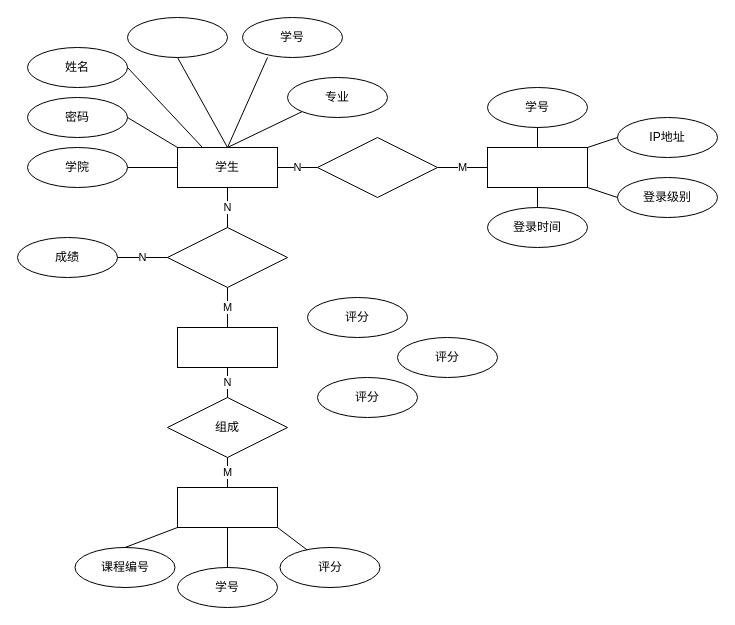
Image size: 735x625. Some labels were removed from this diagram. The box of each missing label's shape, as (x1, y1, x2, y2) in pixels:
培养计划: (176, 326, 278, 368)
性别: (126, 16, 228, 58)
登录成功: (316, 136, 438, 198)
登录日志: (486, 146, 588, 188)
课程信息: (176, 486, 278, 528)
选课: (166, 226, 288, 288)
